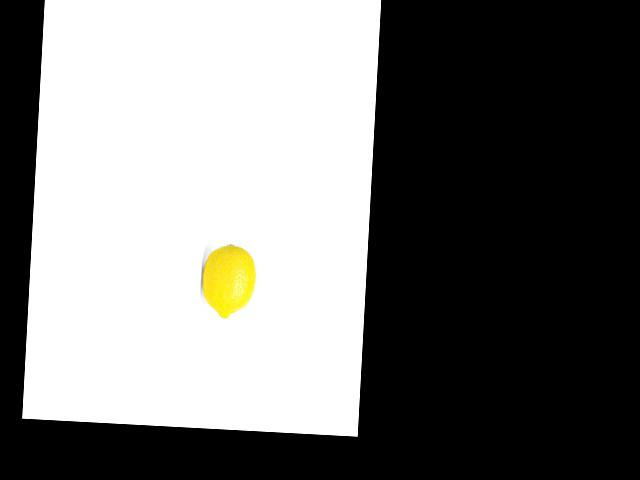lemon: (200, 239, 256, 322)
